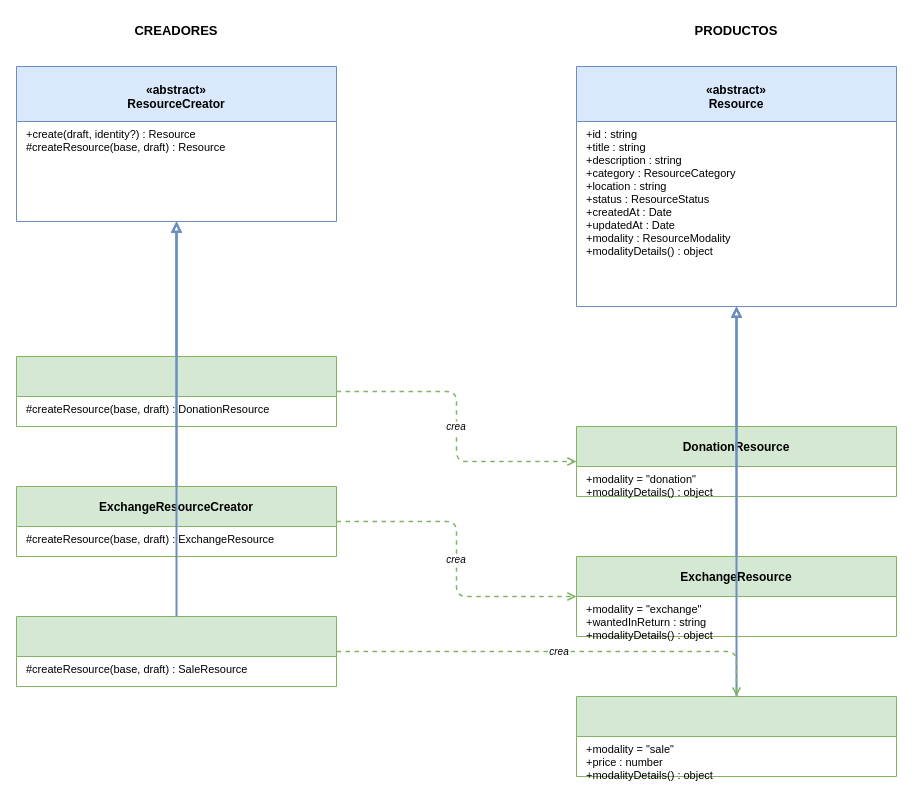
Image size: 913x797. Some labels were removed from this diagram. Each missing label, with the box of its shape:
DonationResourceCreator: (16, 356, 336, 426)
SaleResource: (576, 696, 896, 776)
SaleResourceCreator: (16, 616, 336, 686)
